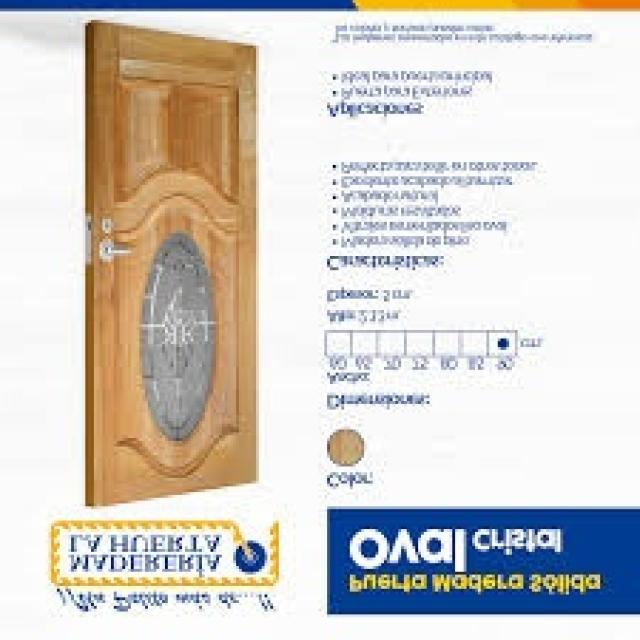door: (82, 23, 259, 509)
